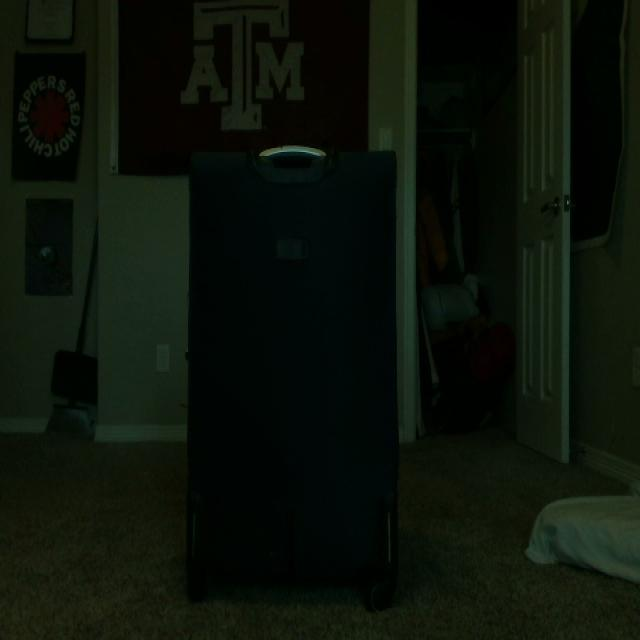suitcase: (184, 143, 403, 611)
